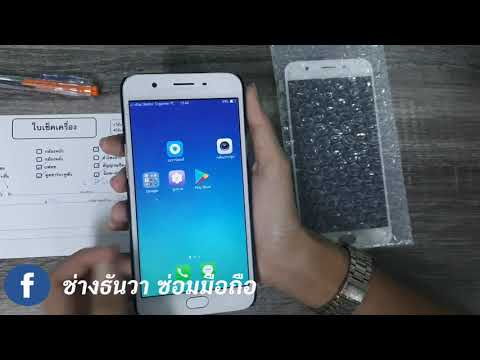phone: (117, 69, 261, 315)
